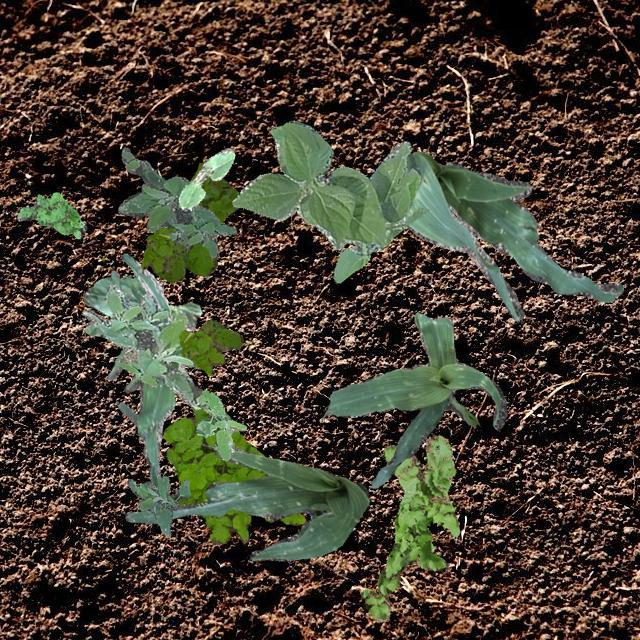crop: (402, 150, 622, 320), (324, 312, 506, 488), (232, 120, 426, 282), (124, 444, 368, 560), (106, 252, 180, 470), (109, 270, 187, 374), (81, 276, 200, 330), (178, 146, 234, 210)
weed: (162, 407, 304, 542), (359, 434, 458, 622), (83, 284, 207, 412), (117, 146, 235, 256), (156, 162, 238, 282), (126, 462, 190, 536), (178, 318, 242, 374), (196, 388, 246, 459), (15, 192, 86, 238), (140, 228, 186, 280)
